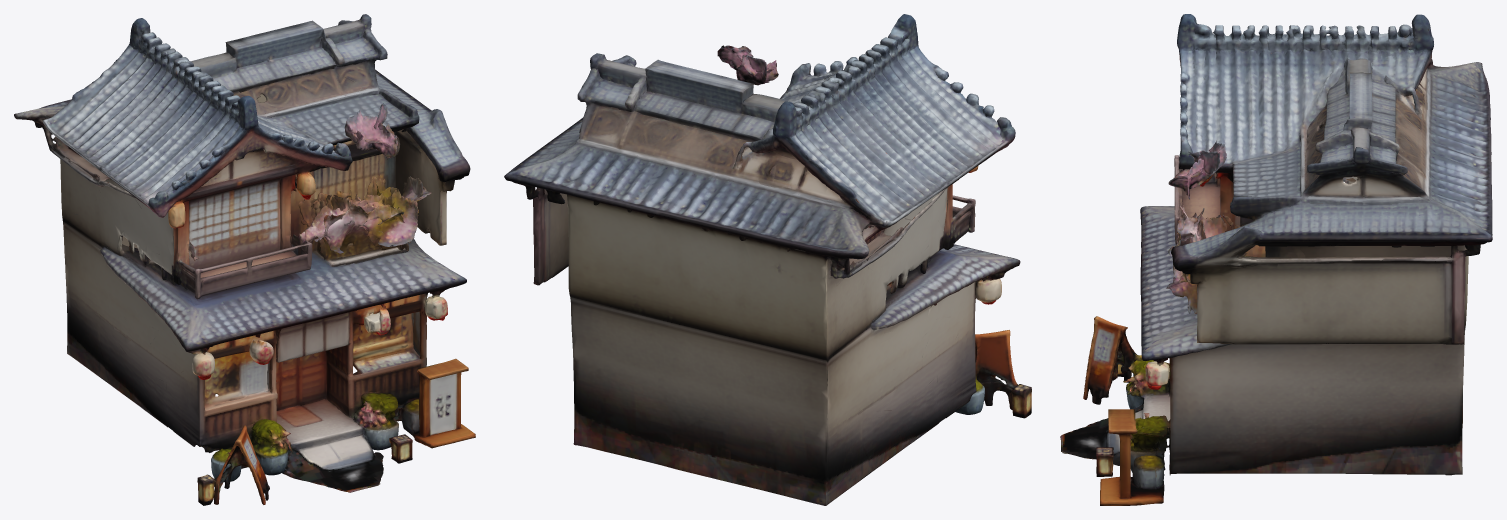
The model's file is SESSION_1735831056_7948816.glb.
The picture shows the model from 3 angles, left to right: view 1: azimuth 30°, elevation 25°; view 2: azimuth 150°, elevation 25°; view 3: azimuth 270°, elevation 25°; orthographic projection. The views are drawn at different scales.
Parts seen in each view (by area): view 1: mesh; view 2: mesh; view 3: mesh.
Boxes of the visible parts, x1,y1,x2,y2 form: mesh: (14,14,475,505); mesh: (504,14,1031,505); mesh: (1060,14,1492,505).
Bounding box in the file's own units: 0.7308 × 0.7956 × 0.7794.
1 material, 1 textured.
